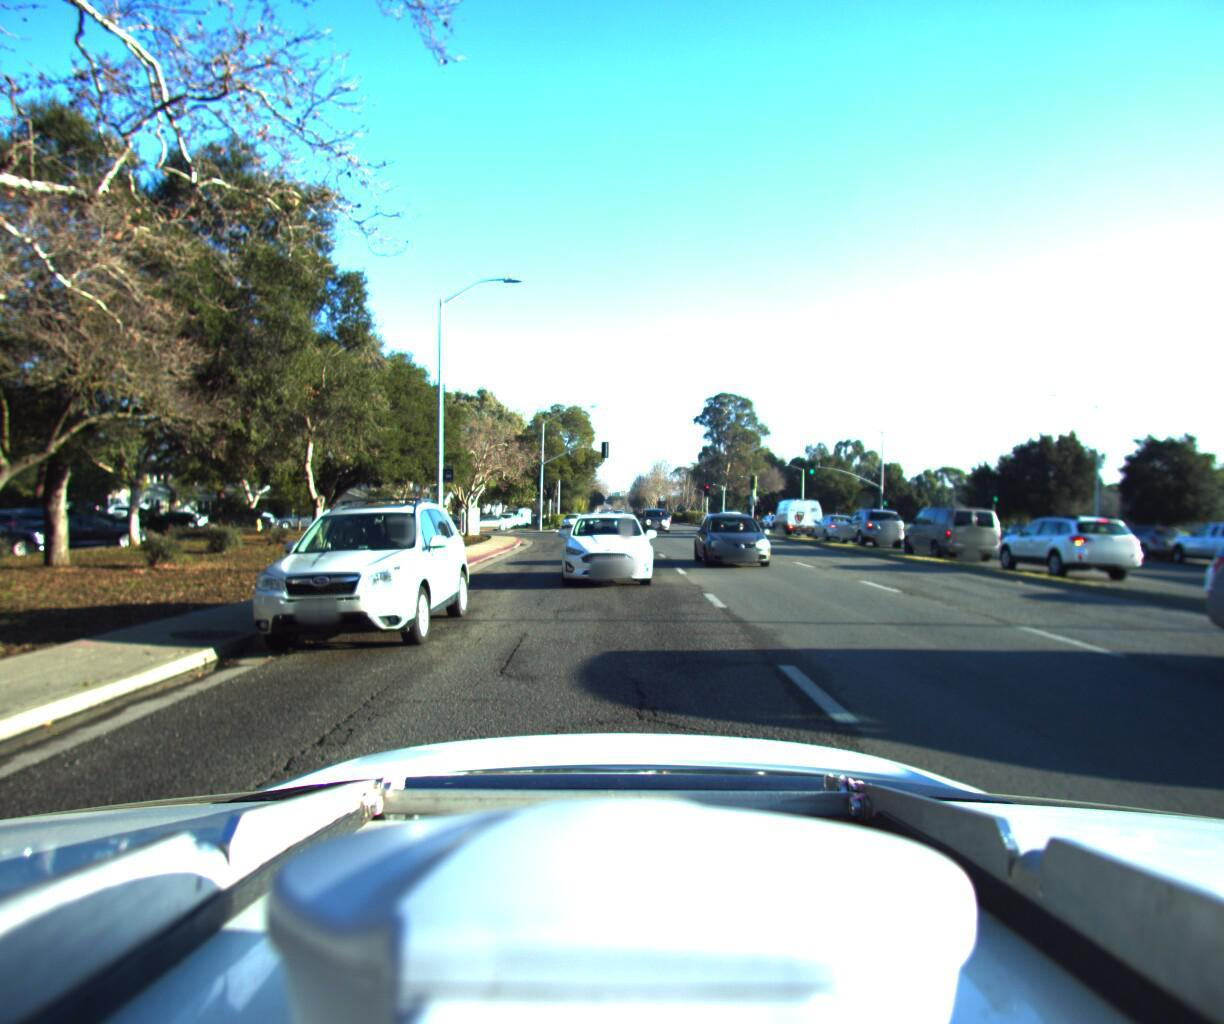car: (229, 485, 476, 666), (986, 505, 1152, 578), (556, 507, 656, 588), (895, 497, 1005, 556), (695, 506, 785, 569), (1184, 520, 1224, 628), (1156, 513, 1224, 569), (1092, 516, 1188, 555), (832, 500, 907, 543), (204, 502, 278, 527), (805, 506, 861, 538), (272, 505, 336, 526), (715, 503, 757, 532), (480, 504, 537, 524), (640, 502, 673, 527), (558, 504, 585, 521)
other_vehicle: (766, 490, 821, 531)
